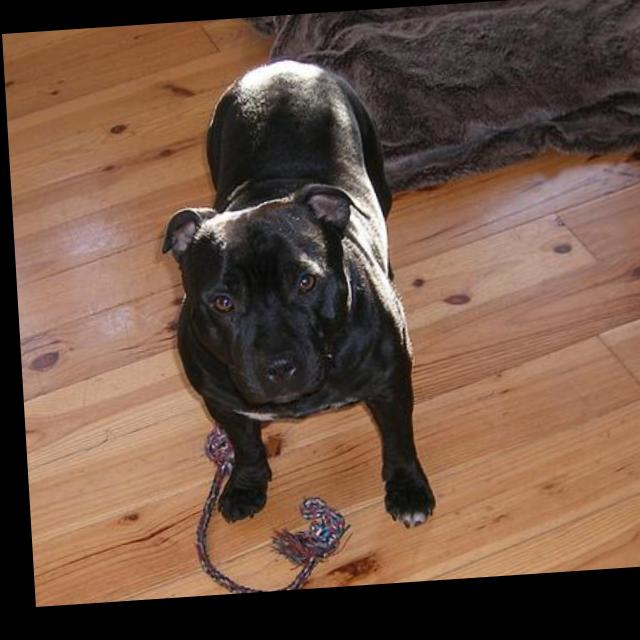staffford: (150, 54, 431, 547)
